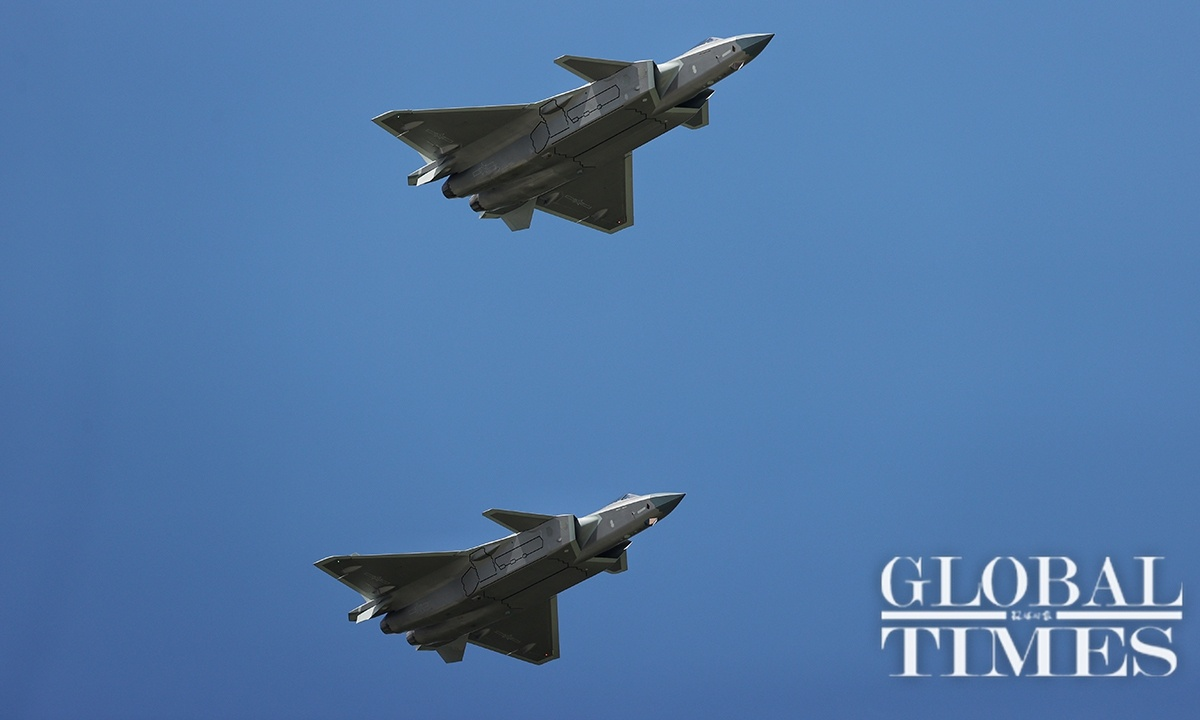J20: (369, 32, 776, 235), (312, 491, 687, 666)
